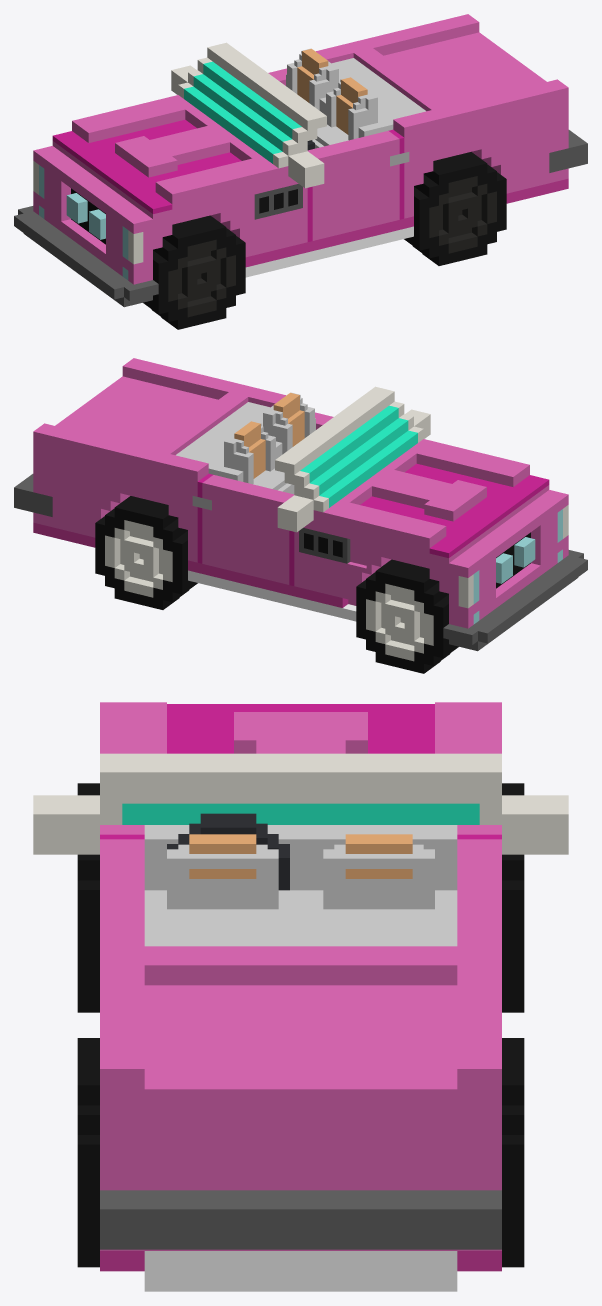
The model's file is pinkclassiccar-len2.glb.
3 renders of one model, top to bottom at view 1: azimuth 30°, elevation 25°; view 2: azimuth 150°, elevation 25°; view 3: azimuth 270°, elevation 25°, orthographic. The views are drawn at different scales.
Parts seen in each view (by area): view 1: _0; view 2: _0; view 3: _0.
Part boxes in pixels (x1,y1,x2,y2): _0: (14, 14, 587, 329); _0: (14, 358, 587, 673); _0: (33, 702, 568, 1291).
Size of the model in its own units: 0.147 by 0.051 by 0.072.
